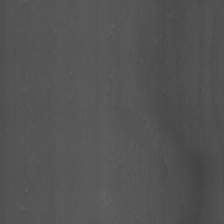silk_spot: (135, 102, 164, 150), (123, 49, 153, 72), (106, 75, 124, 107), (105, 13, 118, 37)
